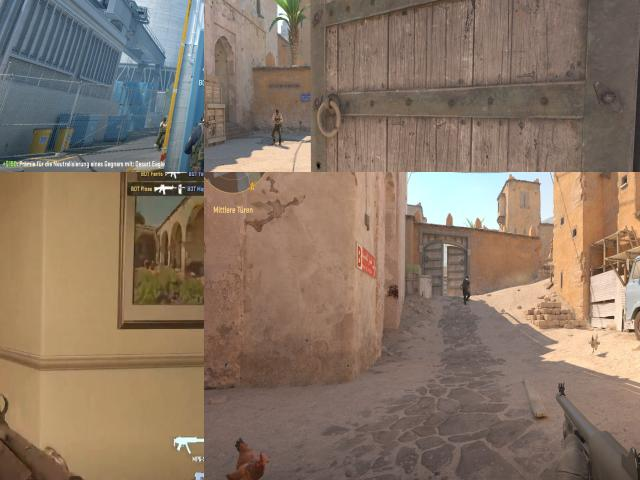CT: (182, 101, 204, 172), (462, 276, 471, 305)
CT-Head: (200, 104, 204, 126), (466, 276, 469, 280)
T: (273, 109, 283, 145), (158, 115, 168, 146)
T-Head: (161, 117, 167, 126), (275, 108, 280, 116)
